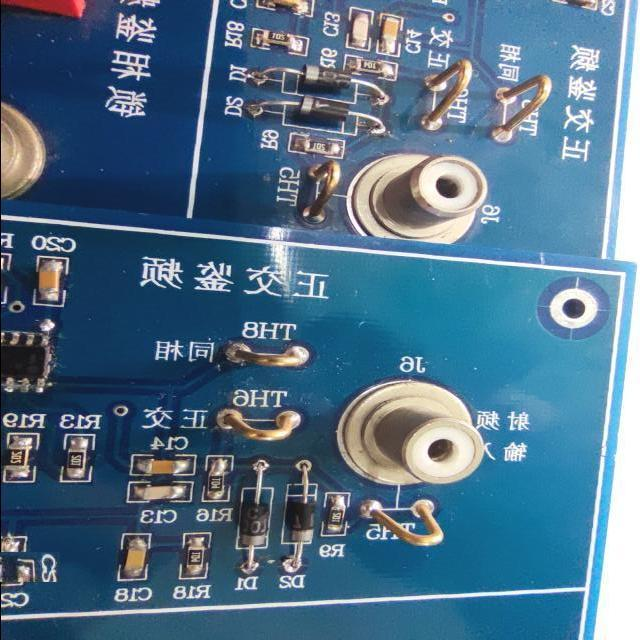miss_welding: (0, 536, 45, 597)
